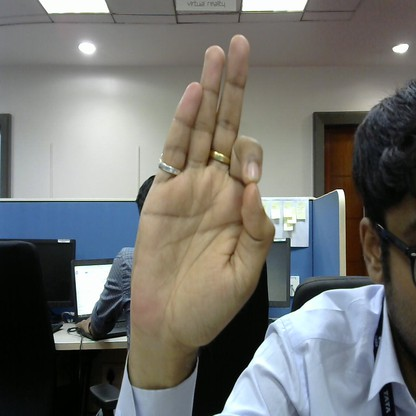f: (122, 30, 286, 352)
